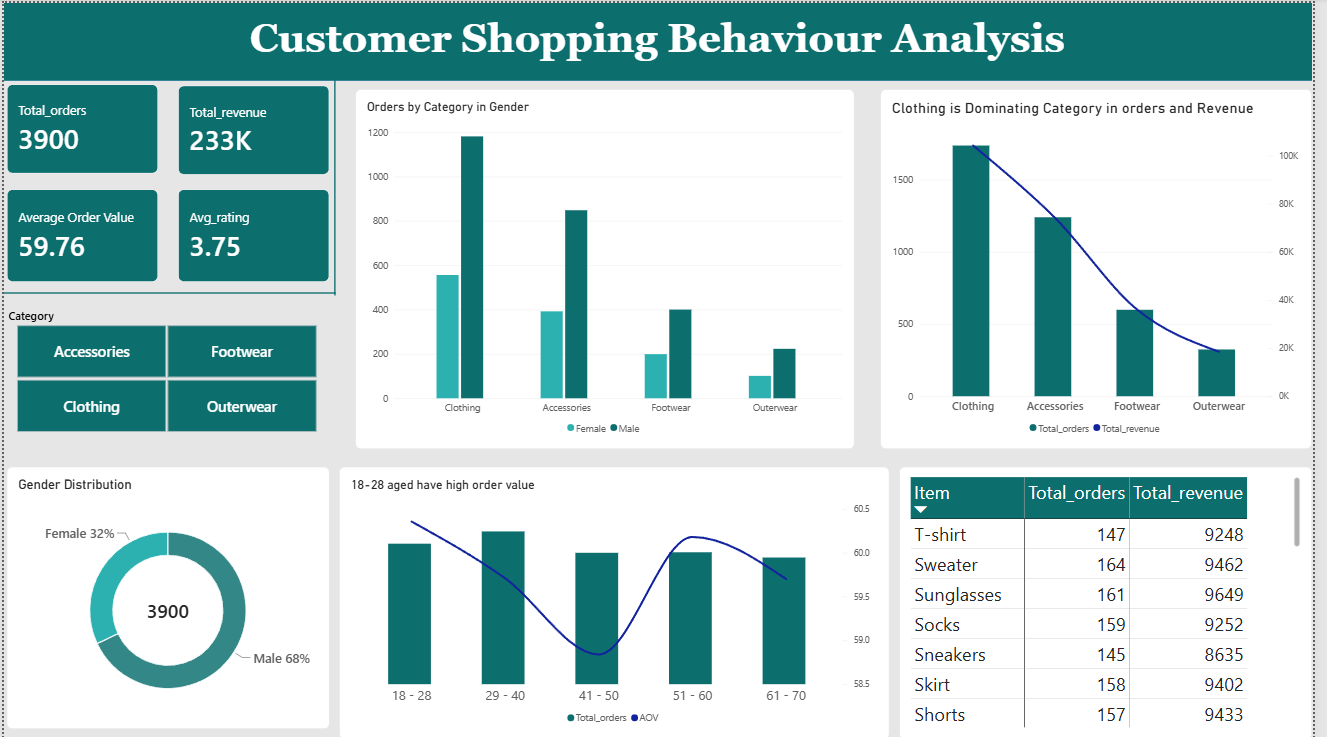

This screenshot's page, from the dashboard's own definition file:
{"tool":"powerbi","page":{"name":"Overview","canvas":[1920,1080],"ordinal":0},"visuals":[{"type":"cardVisual","fields":{"Data":["shopping_dataset shopping_behavior_updated.Total_orders"]},"box":[5.5,119.2,222.3,131.6],"z":0,"group":"g1"},{"type":"donutChart","title":"Gender Distribution","fields":{"Category":["shopping_dataset shopping_behavior_updated.Gender"],"Y":["CountNonNull(shopping_dataset shopping_behavior_updated.Customer ID)"]},"box":[5.5,680.5,473.2,385.2],"z":0},{"type":"cardVisual","fields":{"Data":["KPI.Total_revenue"]},"box":[256.5,120.9,222.3,131.6],"z":1000,"group":"g1"},{"type":"clusteredColumnChart","title":"Orders by Category in Gender","fields":{"Category":["shopping_dataset shopping_behavior_updated.Category"],"Y":["KPI.Total_orders"],"Series":["shopping_dataset shopping_behavior_updated.Gender"]},"box":[517.3,126.6,731.9,528.3],"z":1000},{"type":"lineClusteredColumnComboChart","title":"Clothing is Dominating Category in orders and Revenue","fields":{"Category":["shopping_dataset shopping_behavior_updated.Category"],"Y":["KPI.Total_orders"],"Y2":["KPI.Total_revenue"]},"box":[1287.6,126.6,632.8,528.3],"z":2000},{"type":"cardVisual","title":"Average Order Value","fields":{"Data":["KPI.AOV"]},"box":[5.5,272.4,222,136.2],"z":2000,"group":"g1"},{"type":"shape","box":[0,0,1920.5,113.7],"z":3000},{"type":"cardVisual","fields":{"Data":["KPI.Avg_rating"]},"box":[256.5,272.4,222,136.2],"z":3000,"group":"g1"},{"type":"group","id":"g1","title":"Group 1","box":[5.5,119.2,473.2,289.8],"z":4000},{"type":"shape","box":[0,421.9,487.9,7.3],"z":5000},{"type":"shape","box":[480.6,113.7,12.8,315.5],"z":6000},{"type":"textbox","box":[0,0,1920.5,113.7],"z":7000},{"type":"lineClusteredColumnComboChart","title":"18-28 aged have high order value","fields":{"Category":["shopping_dataset shopping_behavior_updated.Age (groups)"],"Y":["KPI.Total_orders"],"Y2":["KPI.AOV"]},"box":[493.4,680.5,807.1,399.9],"z":8000},{"type":"pivotTable","fields":{"Rows":["shopping_dataset shopping_behavior_updated.Item Purchased"],"Values":["KPI.Total_orders","KPI.Total_revenue"]},"box":[1315.2,680.5,605.3,399.9],"z":9000},{"type":"slicer","fields":{"Values":["shopping_dataset shopping_behavior_updated.Category"]},"box":[0,447.6,478.7,183.4],"z":10000}]}

Visuals, with their boxes in screenshot pixels (x1, y1, x2, y2), scaled from the page's 1920x1080 canvas onto the 1327x737 screenshot:
cardVisual - shopping_dataset shopping_behavior_updated.Total_orders: 4,81,157,171
"Gender Distribution" donutChart: 4,464,331,727
cardVisual - KPI.Total_revenue: 177,83,331,172
"Orders by Category in Gender" clusteredColumnChart: 358,86,863,447
"Clothing is Dominating Category in orders and Revenue" lineClusteredColumnComboChart: 890,86,1326,447
"Average Order Value" cardVisual: 4,186,157,279
shape: 0,0,1326,78
cardVisual - KPI.Avg_rating: 177,186,331,279
"Group 1" group: 4,81,331,279
shape: 0,288,337,293
shape: 332,78,341,293
textbox: 0,0,1326,78
"18-28 aged have high order value" lineClusteredColumnComboChart: 341,464,899,736
pivotTable - shopping_dataset shopping_behavior_updated.Item Purchased x KPI.Total_orders: 909,464,1326,736
slicer - shopping_dataset shopping_behavior_updated.Category: 0,305,331,431
